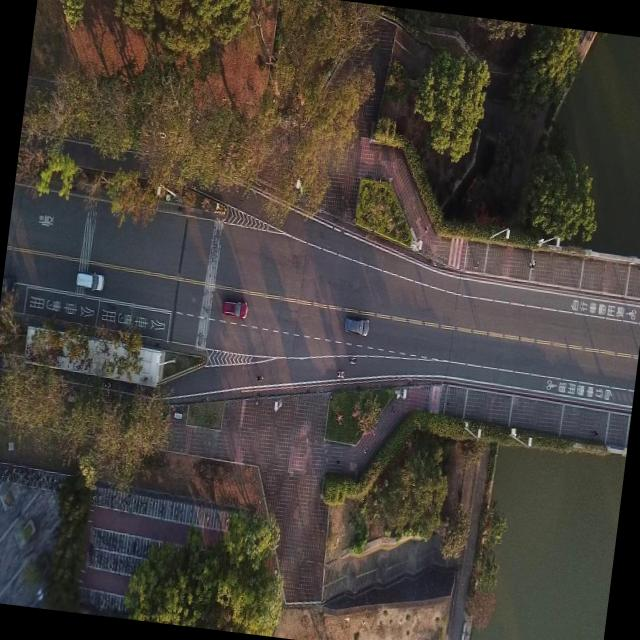bike: (334, 368, 350, 383), (252, 369, 266, 386), (347, 354, 359, 367)
car: (74, 269, 104, 292), (342, 313, 370, 337), (220, 297, 248, 319)
